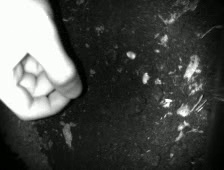corn: (139, 70, 152, 85), (124, 49, 137, 61)
